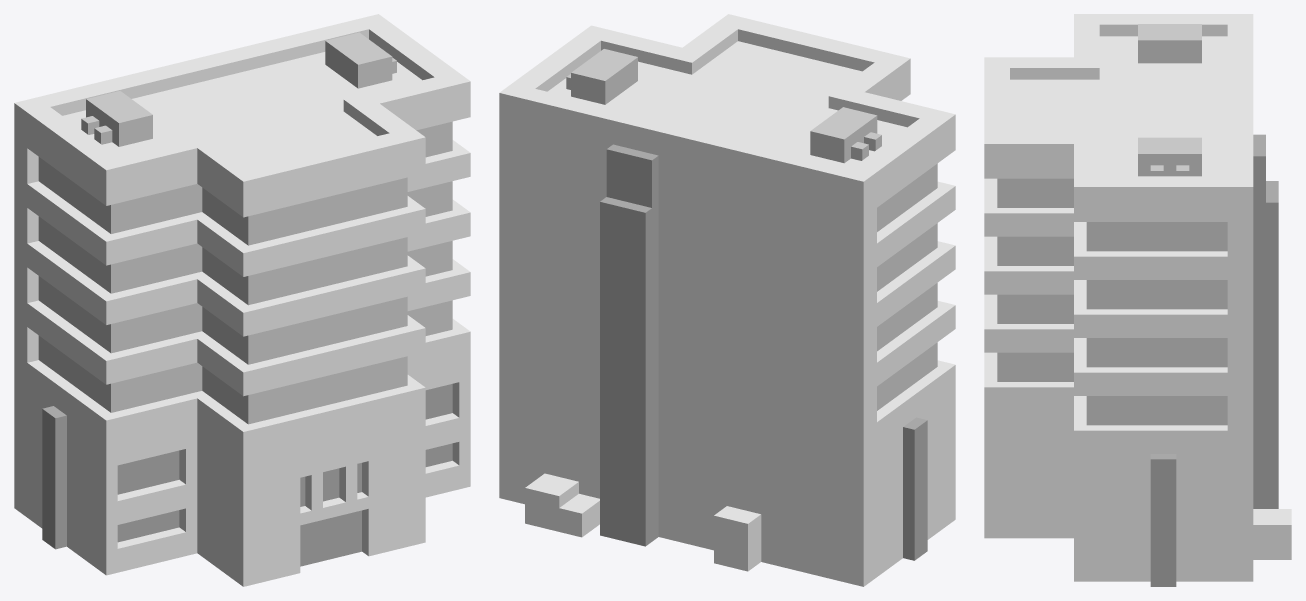
The model's file is building_4.obj.
3 views of the same model, side by side, from view 1: azimuth 30°, elevation 25°; view 2: azimuth 150°, elevation 25°; view 3: azimuth 270°, elevation 25° (orthographic). The views are drawn at different scales.
Bounding box in the file's own units: 3.4 × 3.5 × 2.4.
Materials: 1 (1 with a texture image).
